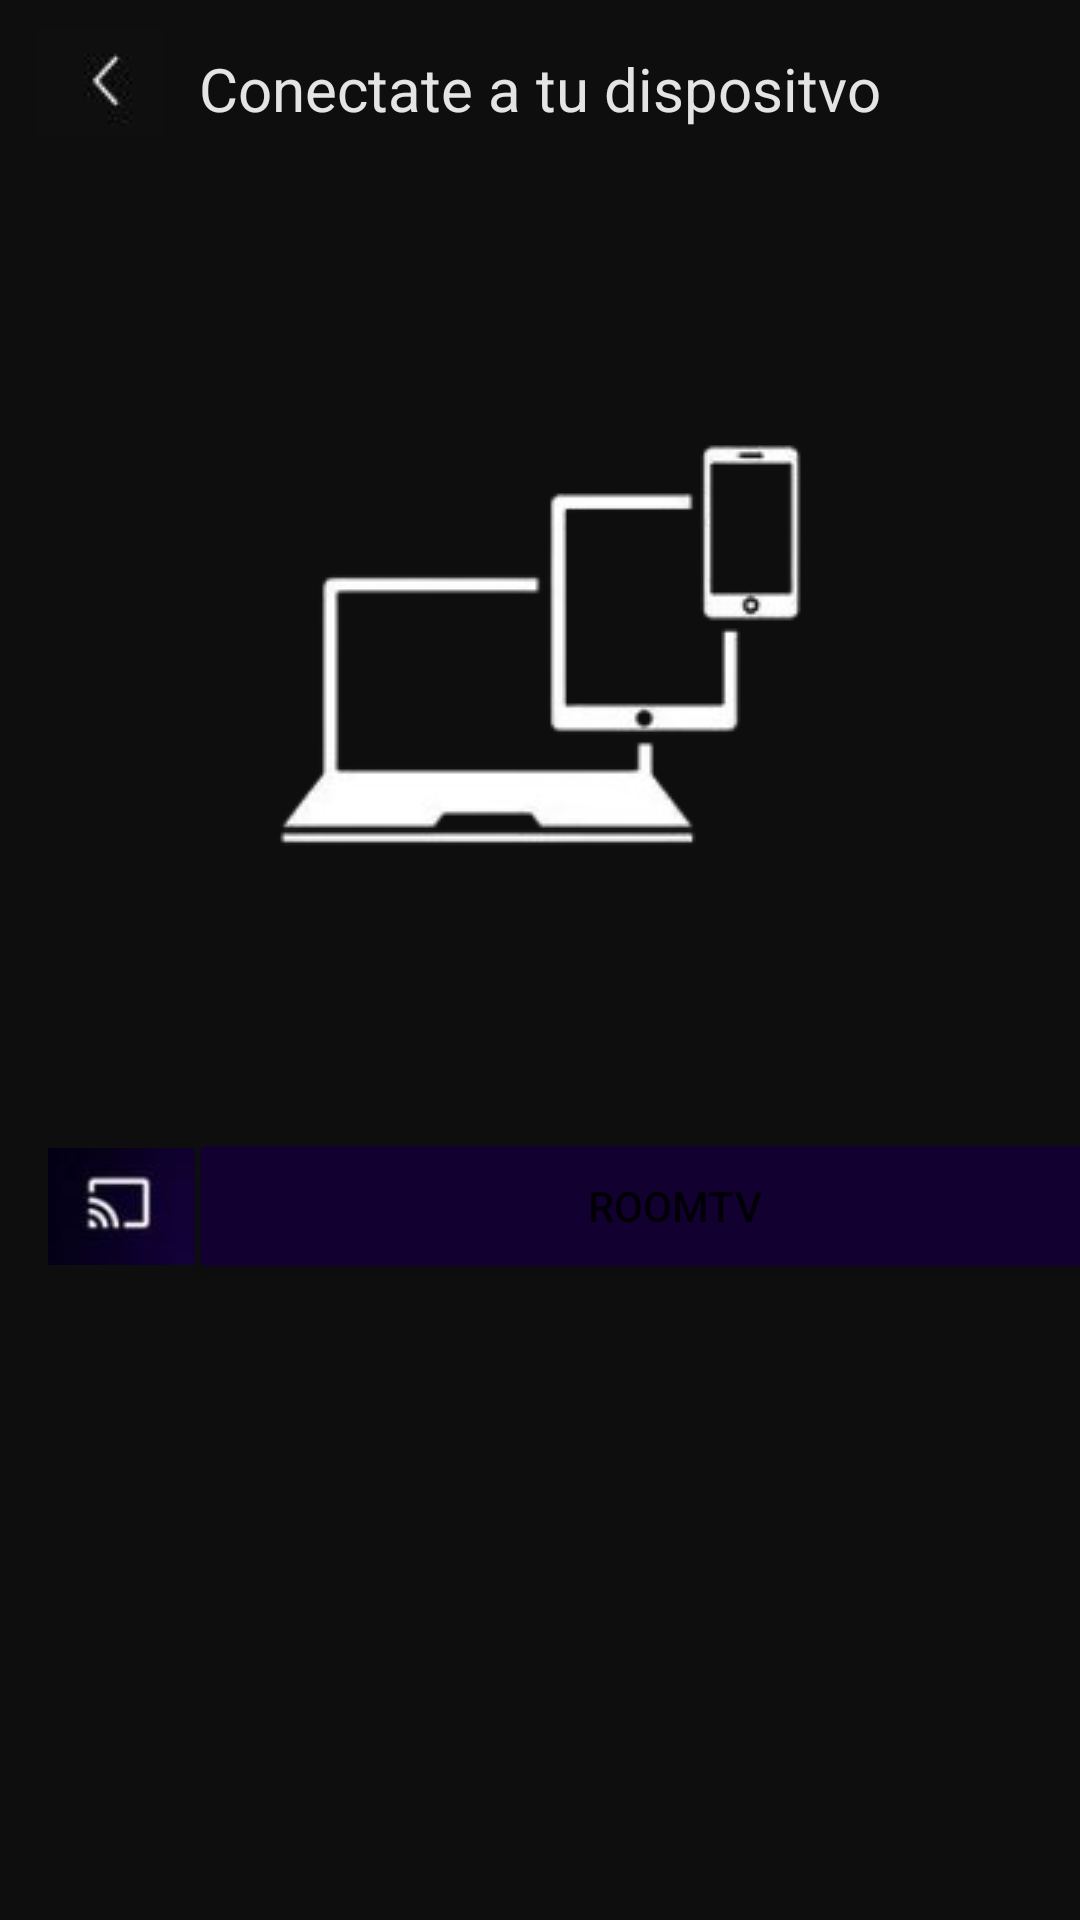

Point at icon controls on the screen. Image size 1080w x 1920h, points as (x=x, y=y).
volver: (x=106, y=80)
